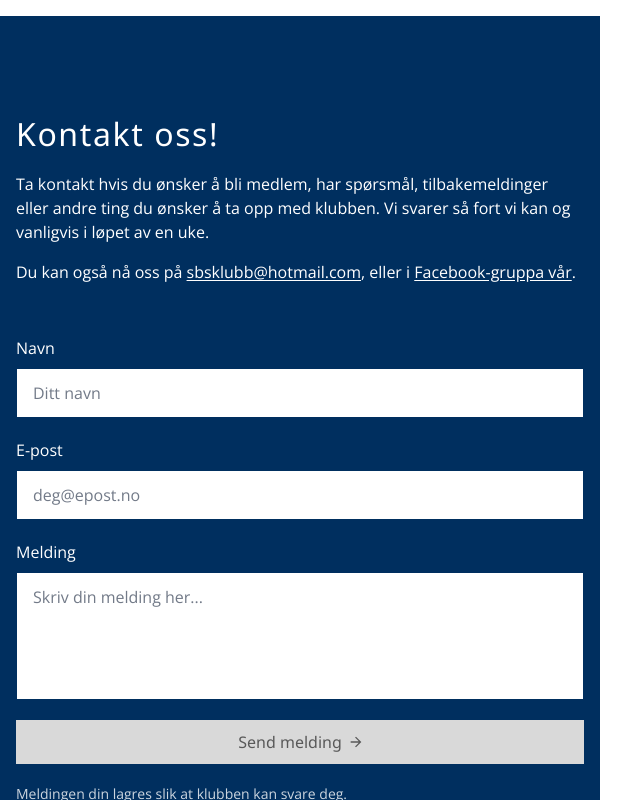
Test case: ContactSection › shows the generic failure banner when the helper rejects, not the raw backend error
This screenshot has width=617, height=800.
Type "Ola Nordmann" into the field with placeholder "Ditt navn" at (300, 393), box x1=16 y1=368 x2=584 y2=418
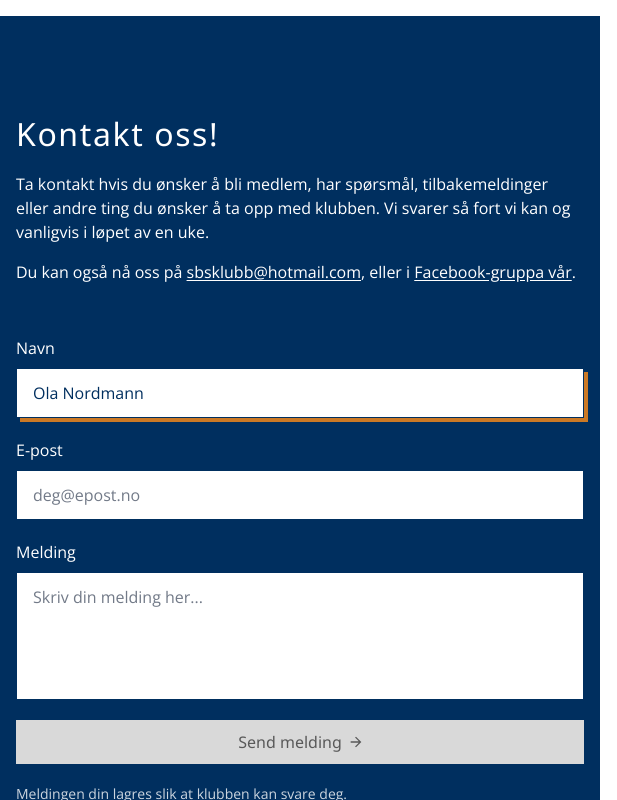
Type "ola@epost.no" into the field with placeholder "deg@epost.no" at (300, 495), box x1=16 y1=470 x2=584 y2=520
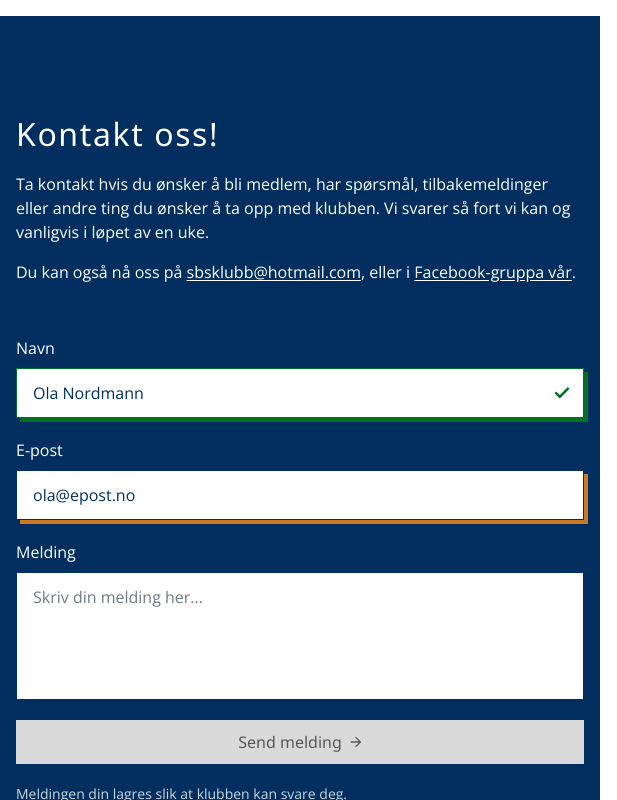
Type "Hei, jeg har et spørsmål." into the text box with placeholder "Skriv din melding her..." at (300, 636), box x1=16 y1=572 x2=584 y2=700
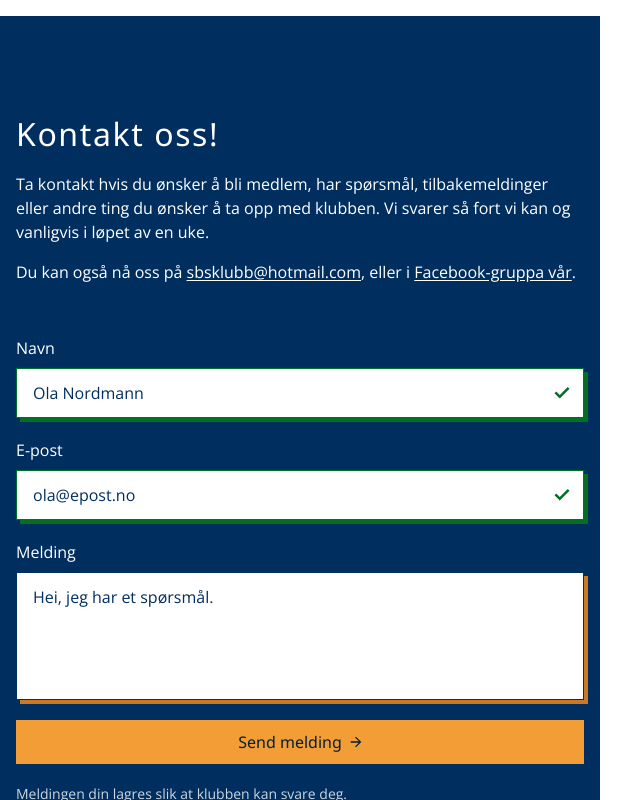
Click the button "Send melding" at (300, 742), box x1=16 y1=720 x2=584 y2=764
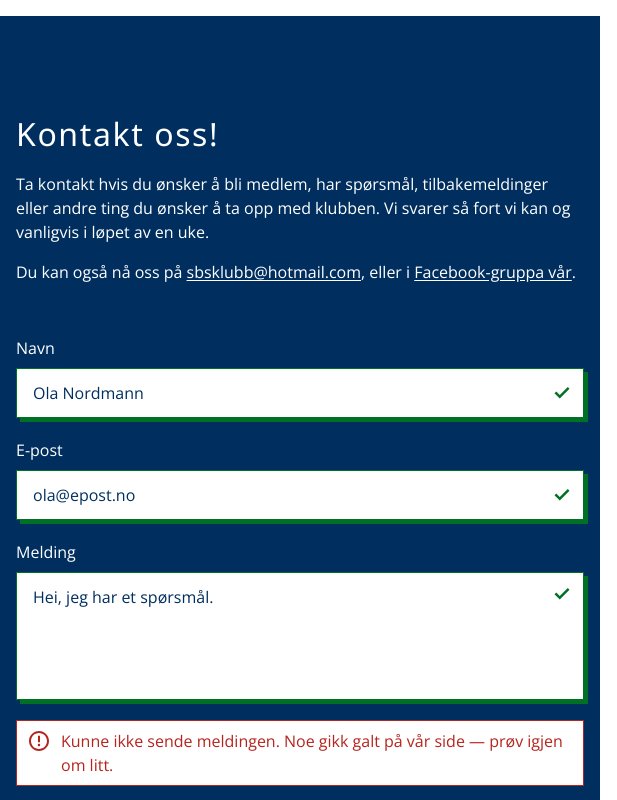
Check: the message does not show "duplicate key", box x1=16 y1=720 x2=584 y2=786
Check: the message reads "Kunne ikke sende meldingen. Noe gikk galt på vår side — prøv igjen om litt.", box x1=61 y1=730 x2=563 y2=776
